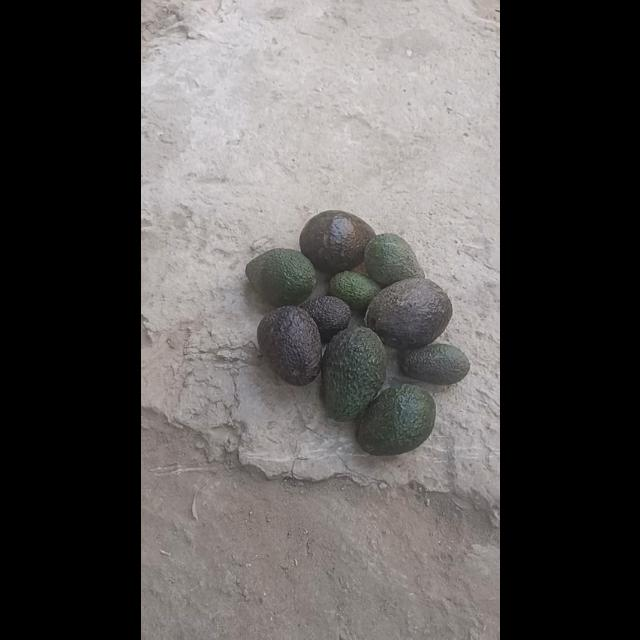Primera: (320, 324, 388, 420), (364, 276, 452, 348), (356, 383, 434, 455), (255, 304, 322, 384), (298, 208, 376, 274)
Segunda: (246, 248, 314, 306), (362, 232, 424, 288)
Tercera: (402, 342, 470, 384), (300, 294, 350, 344), (328, 270, 382, 312)
